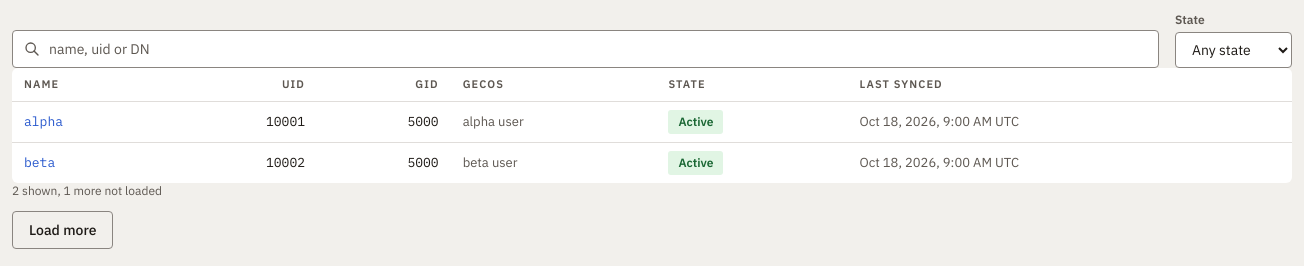
Test case: stored account list › should append the next page when Load more is pressed
Click the button with test id "nss-list-load-more": {"x": 63, "y": 230} [12, 210, 114, 248]
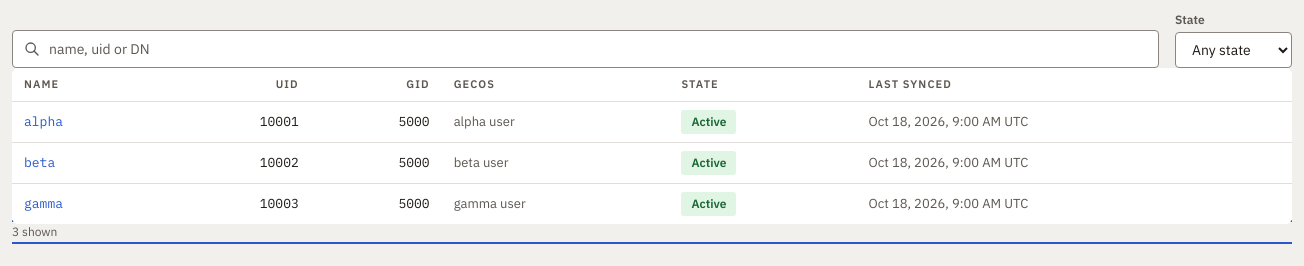
Expected: the number of rows with test id "nss-list-row" is 3, [12, 101, 1292, 142]; [12, 142, 1292, 183]; [12, 183, 1292, 224]
